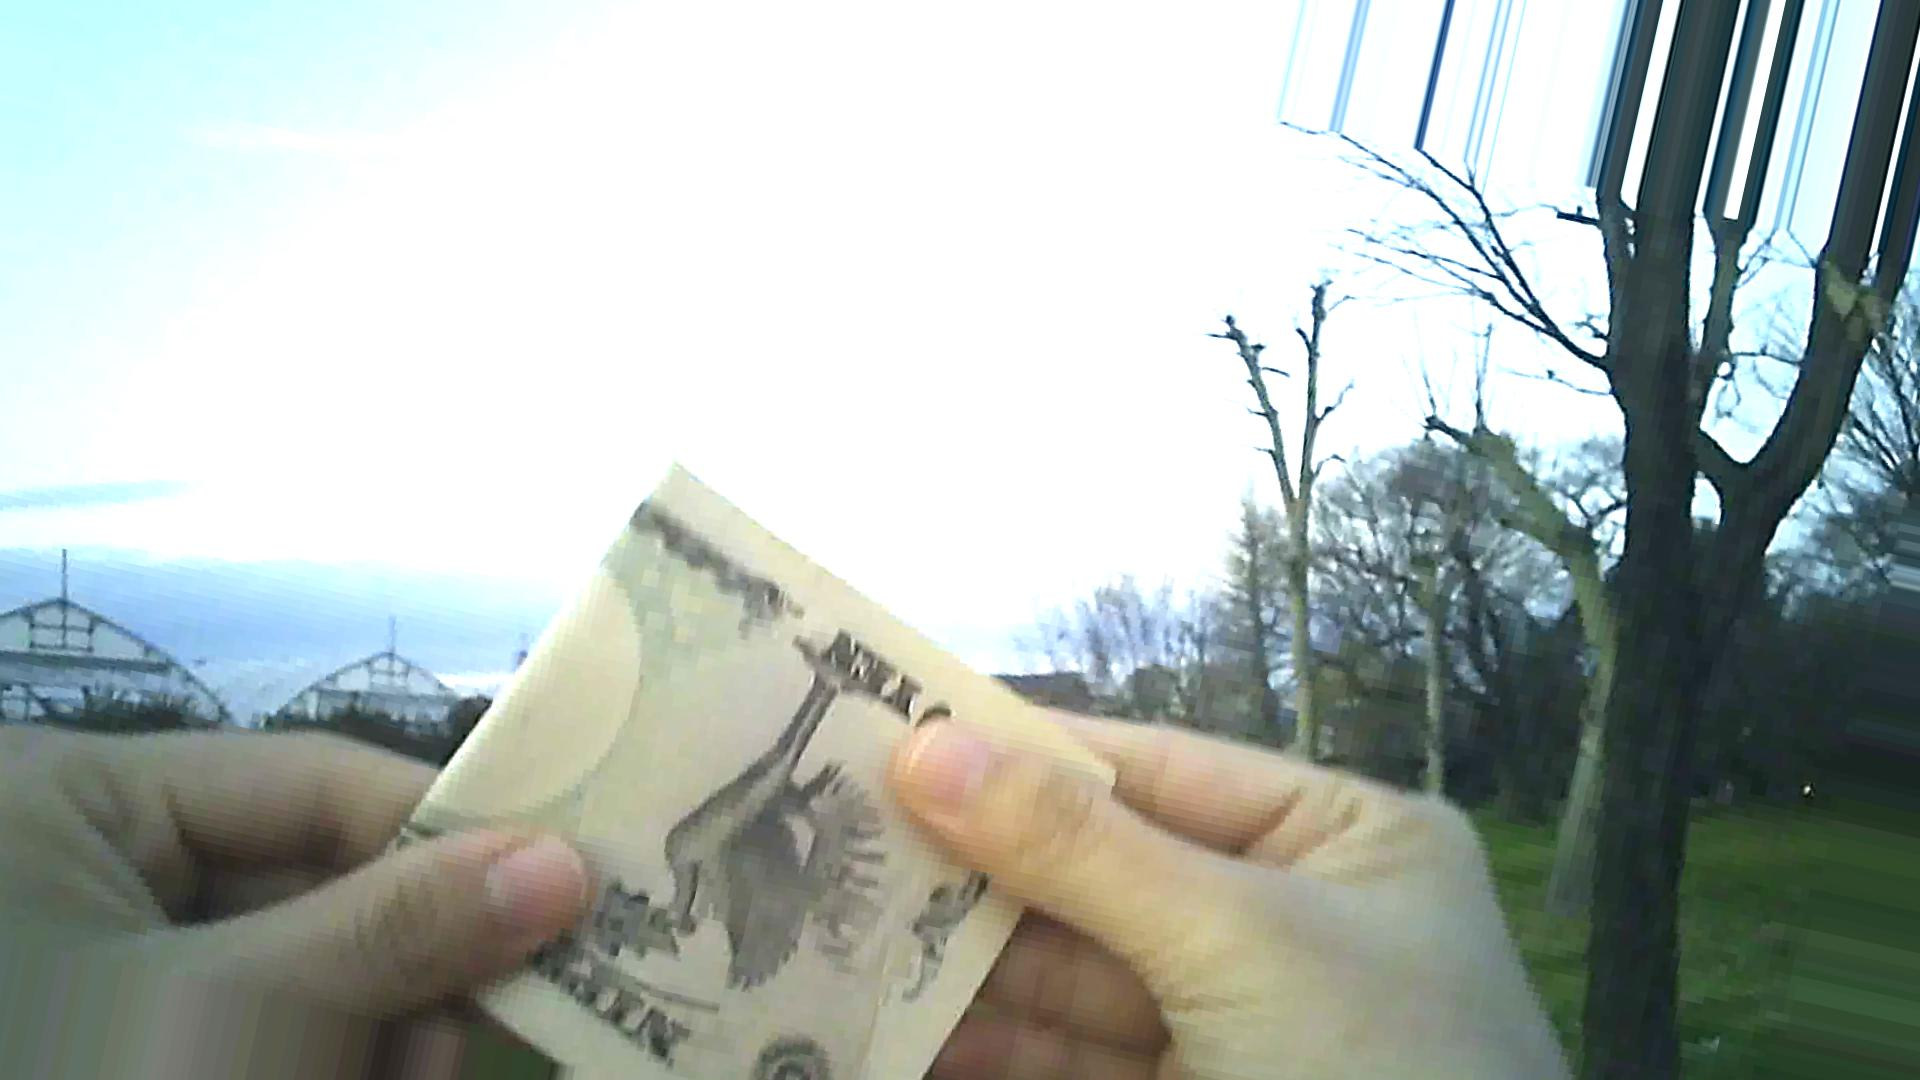10,000 Yen: (324, 430, 1092, 1079)
